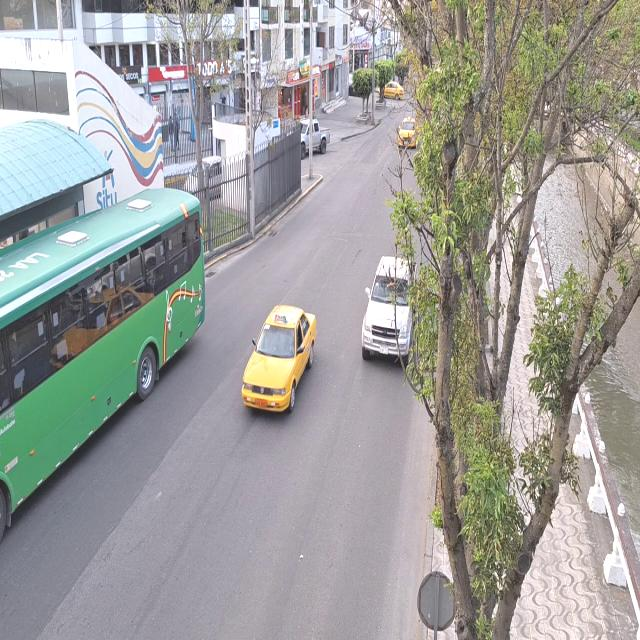BUS: (0, 196, 195, 567)
SED: (241, 303, 318, 416)
